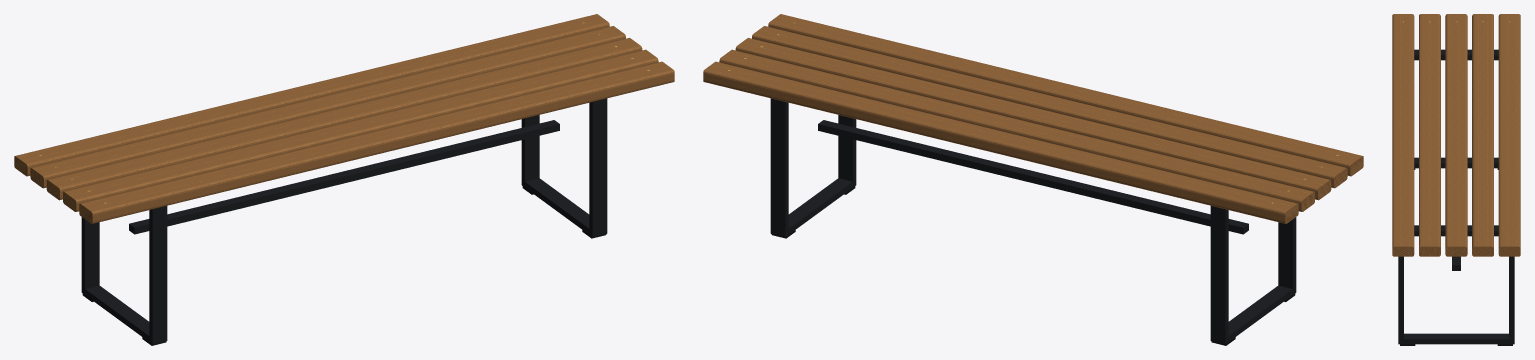
The model's file is Office_Garden_Teak_Bench.glb.
3 views of the same model, side by side, from view 1: azimuth 30°, elevation 25°; view 2: azimuth 150°, elevation 25°; view 3: azimuth 270°, elevation 25° (orthographic). The views are drawn at different scales.
Visible parts, largest first — view 1: Teak_Slat_5, Teak_Slat_2, Teak_Slat_3, Teak_Slat_4, Teak_Slat_1, Anti_Racking_Stretcher, Sled_Frame_W, Sled_Frame_E; view 2: Teak_Slat_1, Teak_Slat_3, Teak_Slat_2, Teak_Slat_4, Teak_Slat_5, Anti_Racking_Stretcher, Sled_Frame_W, Sled_Frame_E; view 3: Teak_Slat_3, Teak_Slat_1, Teak_Slat_5, Teak_Slat_2, Teak_Slat_4, Sled_Frame_E, Sled_Frame_W, Anti_Racking_Stretcher.
Boxes of the visible parts, x1,y1,x2,y2 form: Teak_Slat_5: [79, 61, 674, 223]; Teak_Slat_2: [30, 26, 625, 188]; Teak_Slat_3: [46, 38, 642, 200]; Teak_Slat_4: [63, 49, 658, 211]; Teak_Slat_1: [14, 14, 609, 176]; Anti_Racking_Stretcher: [129, 120, 559, 234]; Sled_Frame_W: [81, 206, 167, 344]; Sled_Frame_E: [521, 98, 607, 237]; Teak_Slat_1: [703, 61, 1298, 223]; Teak_Slat_3: [735, 38, 1331, 200]; Teak_Slat_2: [719, 49, 1314, 211]; Teak_Slat_4: [752, 26, 1347, 188]; Teak_Slat_5: [768, 14, 1363, 176]; Anti_Racking_Stretcher: [818, 120, 1248, 234]; Sled_Frame_W: [1210, 206, 1296, 344]; Sled_Frame_E: [770, 98, 856, 237]; Teak_Slat_3: [1445, 14, 1467, 256]; Teak_Slat_1: [1498, 14, 1520, 256]; Teak_Slat_5: [1392, 14, 1414, 256]; Teak_Slat_2: [1472, 14, 1493, 256]; Teak_Slat_4: [1419, 14, 1440, 256]; Sled_Frame_E: [1398, 225, 1514, 344]; Sled_Frame_W: [1414, 49, 1498, 168]; Anti_Racking_Stretcher: [1452, 256, 1460, 270].
Bounding box in the file's own units: 1.8 × 0.45 × 0.42.
5 materials, 2 textured.
